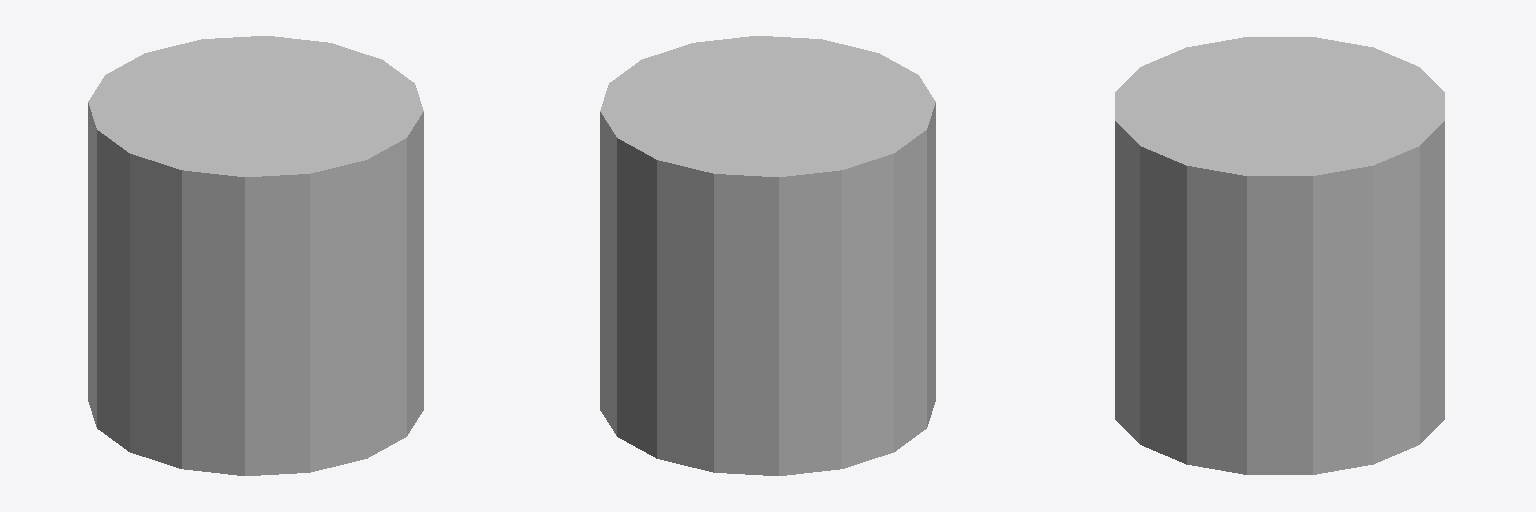
The model's file is aquila_crew_s1p5_2_1_collider.obj.
The picture shows the model from 3 angles: view 1: azimuth 30°, elevation 25°; view 2: azimuth 150°, elevation 25°; view 3: azimuth 270°, elevation 25°; orthographic projection.
Parts seen in each view (by area): view 1: aquila_crew_s1p5_2_1_collider; view 2: aquila_crew_s1p5_2_1_collider; view 3: aquila_crew_s1p5_2_1_collider.
Part boxes in pixels (x1,y1,x2,y2): aquila_crew_s1p5_2_1_collider: (88, 36, 423, 475); aquila_crew_s1p5_2_1_collider: (600, 36, 935, 475); aquila_crew_s1p5_2_1_collider: (1115, 37, 1444, 474).
Bounding box in the file's own units: 1.88 × 1.88 × 1.88.